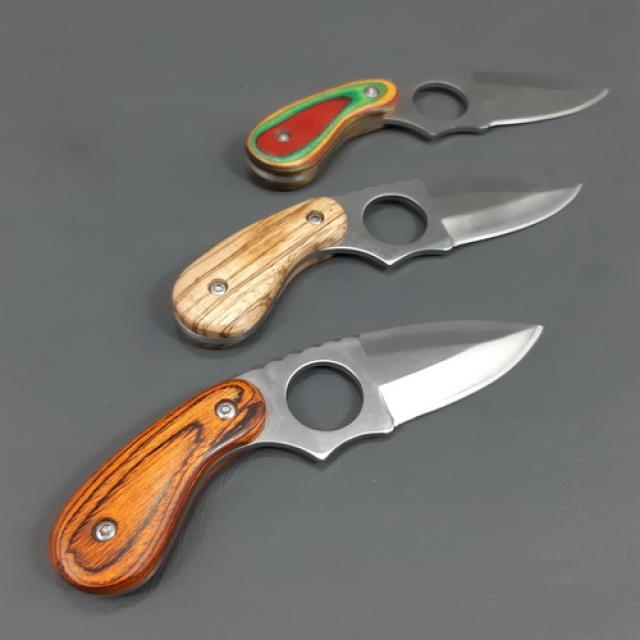Pisau: (35, 306, 550, 625)
